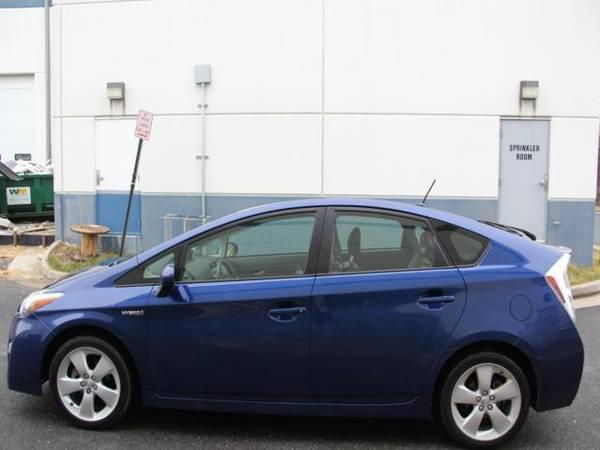Front_Bumper: (6, 313, 57, 399)
Front_Fender: (36, 245, 171, 400)
Front_Left_Door: (147, 276, 314, 415)
Front_Left_Window: (156, 199, 329, 283)
Left_Headlight: (18, 292, 62, 321)
Left_Taillight: (544, 253, 573, 317)
Rear_Bumper: (514, 304, 583, 409)
Rear_Fender: (440, 217, 560, 350)
Rear_Left_Door: (309, 268, 465, 417)
Rear_Left_Window: (319, 197, 464, 275)
Wheel: (440, 349, 532, 449), (51, 332, 131, 422)
